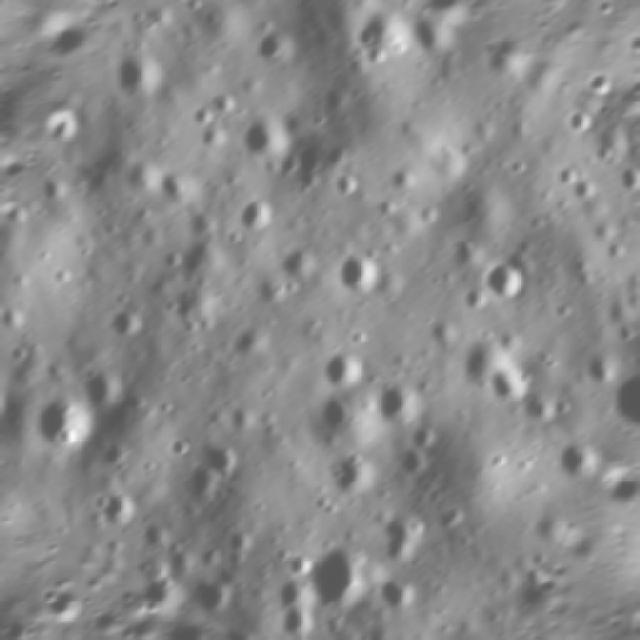crater: (177, 436, 261, 518), (298, 541, 374, 617), (69, 471, 149, 542), (177, 568, 245, 630), (105, 52, 173, 112), (237, 110, 298, 172), (36, 396, 98, 456), (472, 254, 534, 312), (248, 22, 306, 81), (405, 11, 464, 67), (309, 344, 365, 401), (319, 451, 379, 504), (332, 250, 388, 304), (318, 155, 374, 208), (479, 360, 533, 411), (552, 439, 608, 488), (274, 250, 323, 298), (102, 304, 149, 353), (78, 370, 125, 416), (227, 195, 278, 237), (154, 166, 198, 212), (372, 380, 414, 425), (397, 449, 441, 491), (609, 370, 640, 424), (402, 418, 443, 454), (56, 101, 90, 144), (198, 128, 235, 166), (563, 108, 602, 144), (202, 80, 238, 118), (606, 314, 640, 352), (615, 162, 640, 205), (192, 103, 219, 126), (230, 624, 264, 640), (0, 387, 8, 428), (372, 0, 402, 9), (292, 0, 340, 2)
